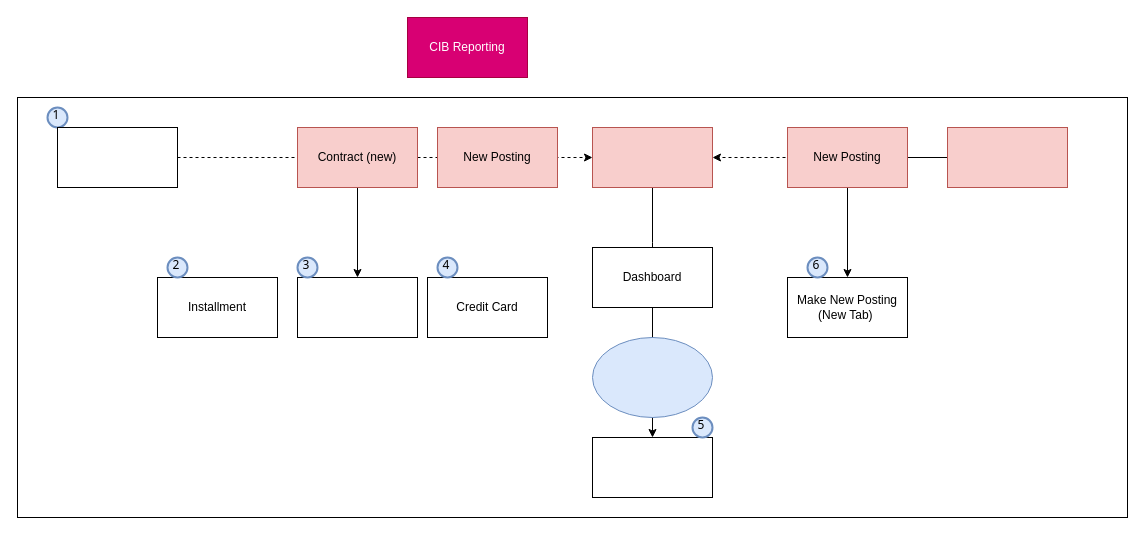
Image size: 1145x535. Some labels were removed from this diagram. Each missing label, with the box of its shape:
Approve: (592, 126, 712, 188)
Approve Pending edit_mkck: (592, 436, 712, 498)
Assign FI subject Code: (56, 126, 178, 188)
Contract (existing): (946, 126, 1068, 188)
Non-Installment: (296, 276, 418, 338)
Search: (592, 336, 712, 418)
